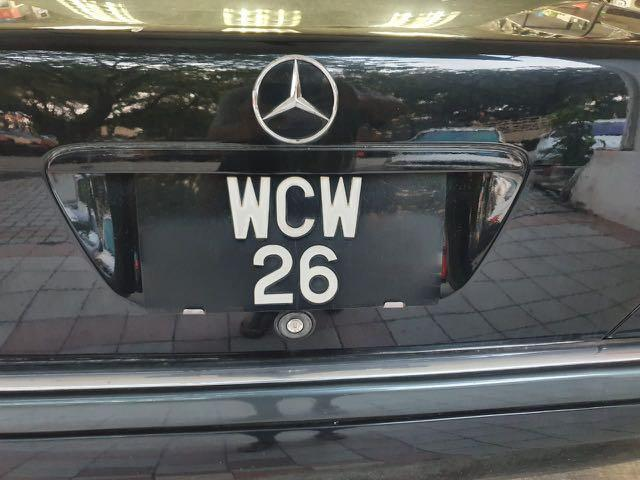License_Plate: (138, 175, 433, 309)
